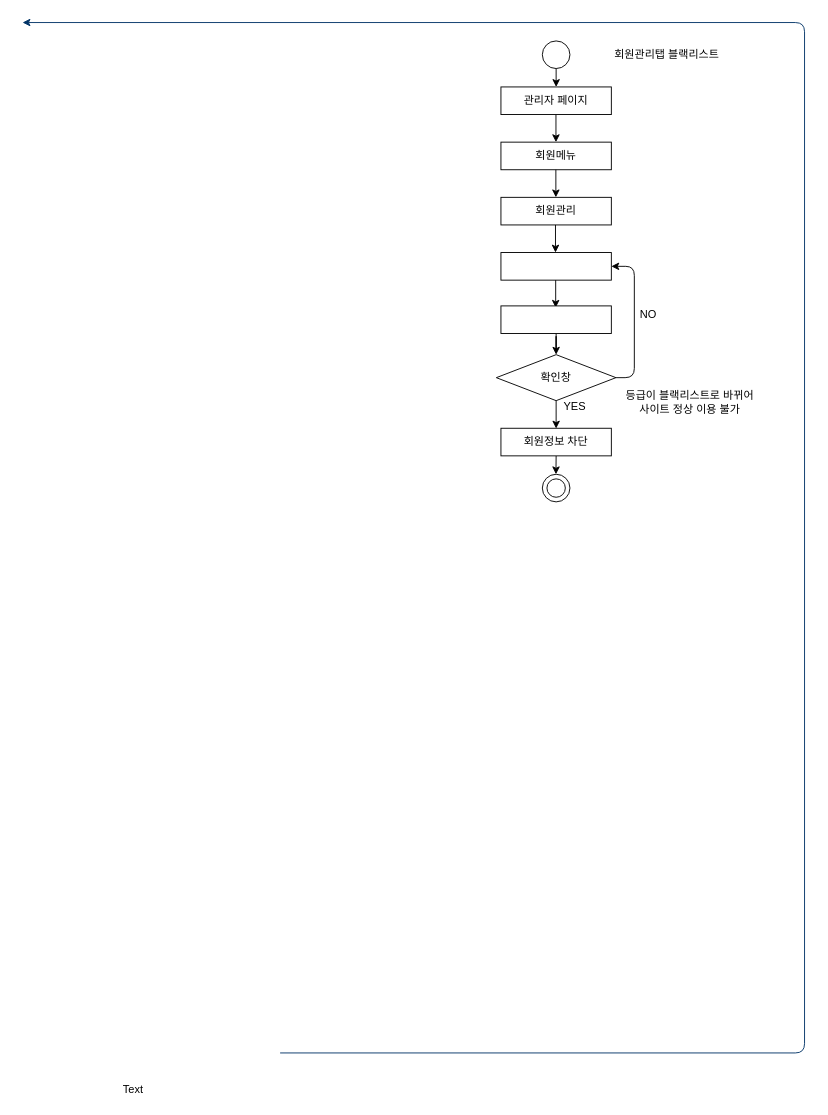
Some shapes in this 828 by 1115 pixel diagram are drawn without their labels. The centre of each missing label's shape, as x and y in pixels:
"블랙리스트 버튼" goes at point (555, 319).
"블랙리스트 체크" goes at point (555, 266).
